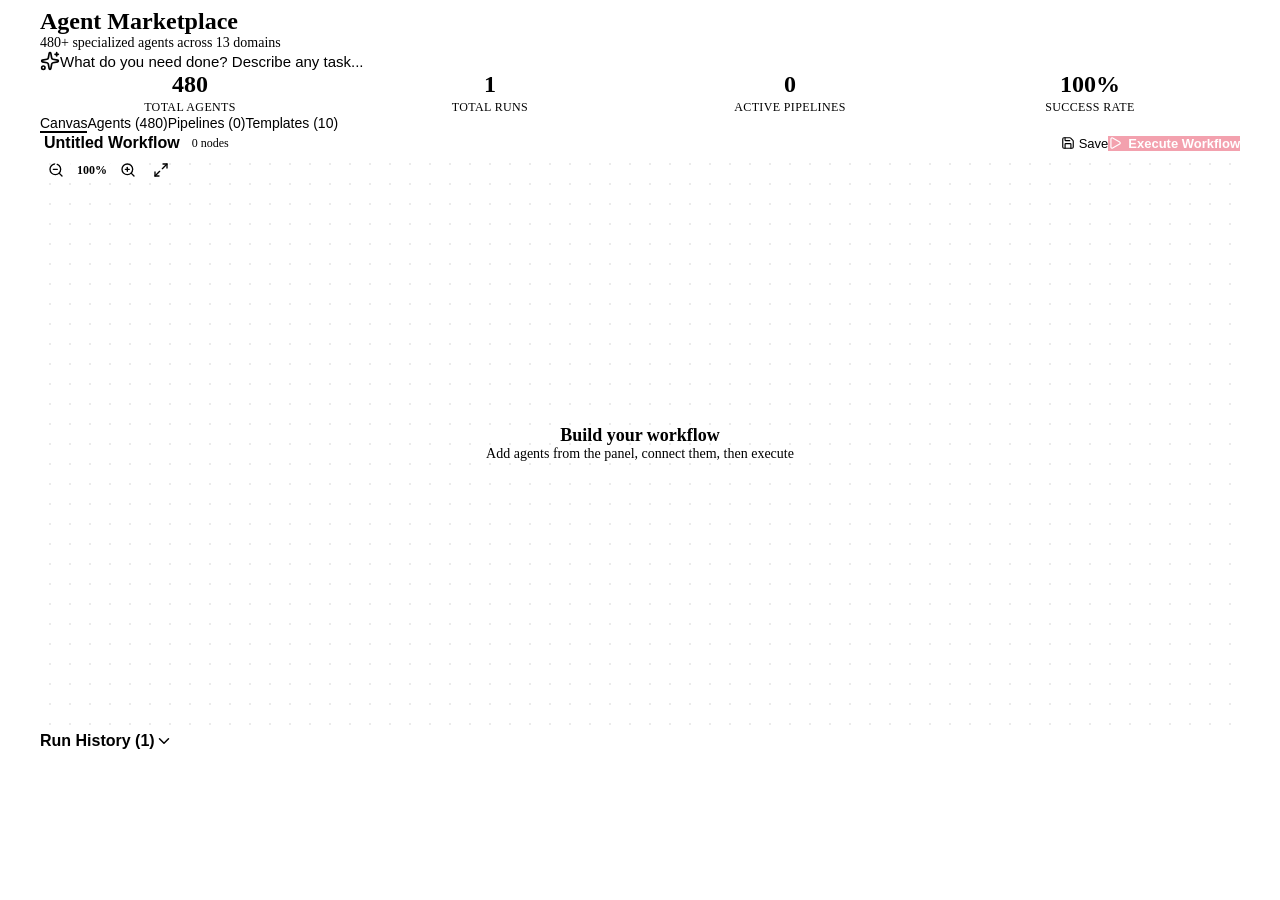
it: AIAgentsPage › shows View Results button for completed runs with results
Click the button "Run History (1)" at (90, 740), box [40, 732, 1240, 750]
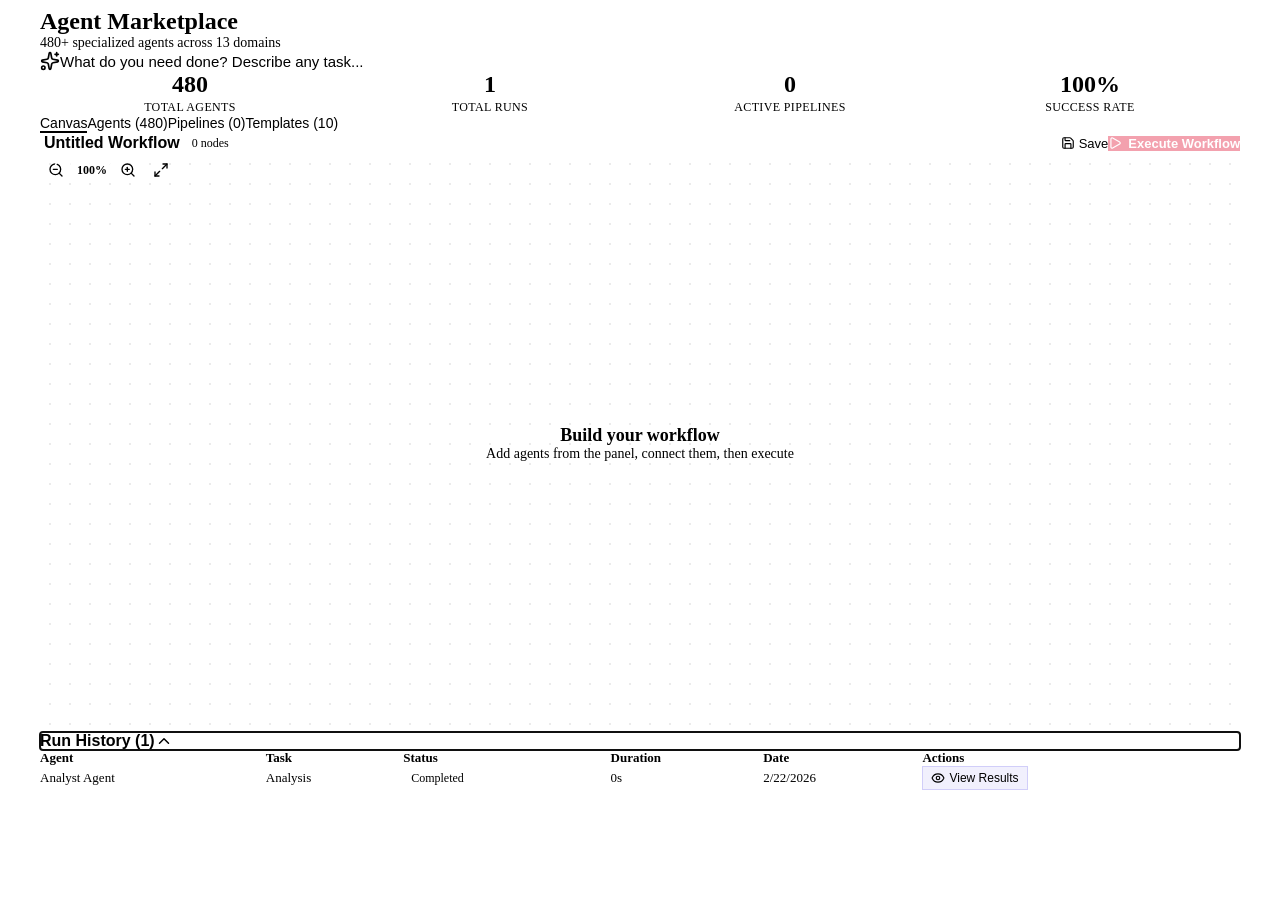
Expected: the button "View Results" is shown, [922, 766, 1028, 790]
